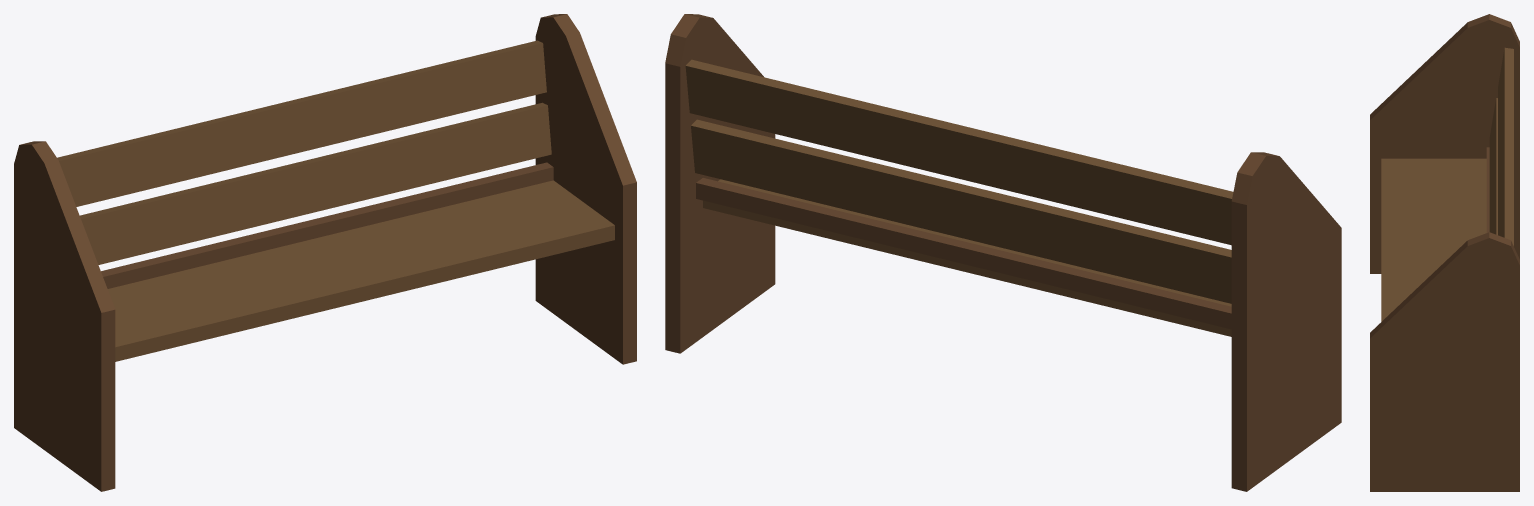
Rendered from Pew.fbx.
The picture shows the model from 3 angles, left to right: view 1: azimuth 30°, elevation 25°; view 2: azimuth 150°, elevation 25°; view 3: azimuth 270°, elevation 25°; orthographic projection. The views are drawn at different scales.
Parts seen in each view (by area): view 1: Pew; view 2: Pew; view 3: Pew.
Part boxes in pixels (<box>): Pew: <box>14,14,636,491</box>; Pew: <box>665,14,1341,491</box>; Pew: <box>1370,14,1519,491</box>.
Bounding box in the file's own units: 1.91 × 1.01 × 0.54.
